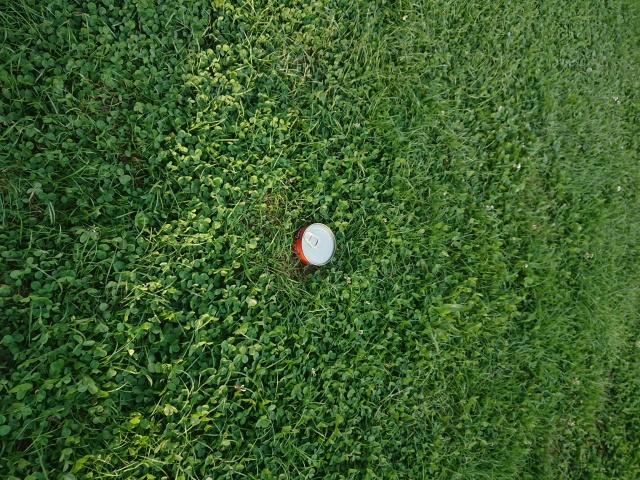Gavrilovic Pork Liver Pate 100g: (291, 221, 337, 267)
